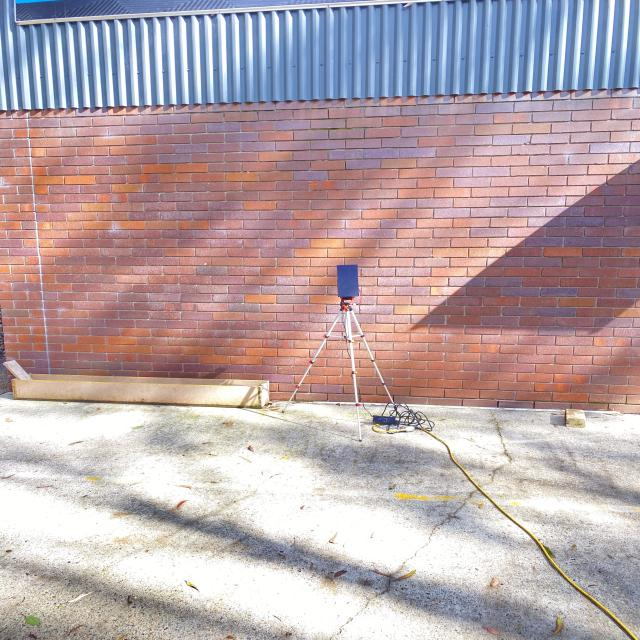matrix: (331, 260, 363, 302)
